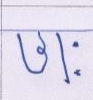anusvara: (73, 42, 78, 49)
